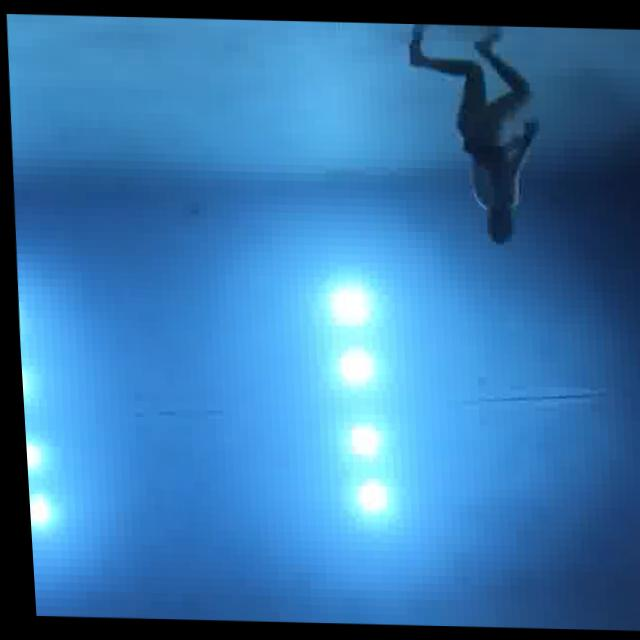human: (393, 22, 557, 254)
